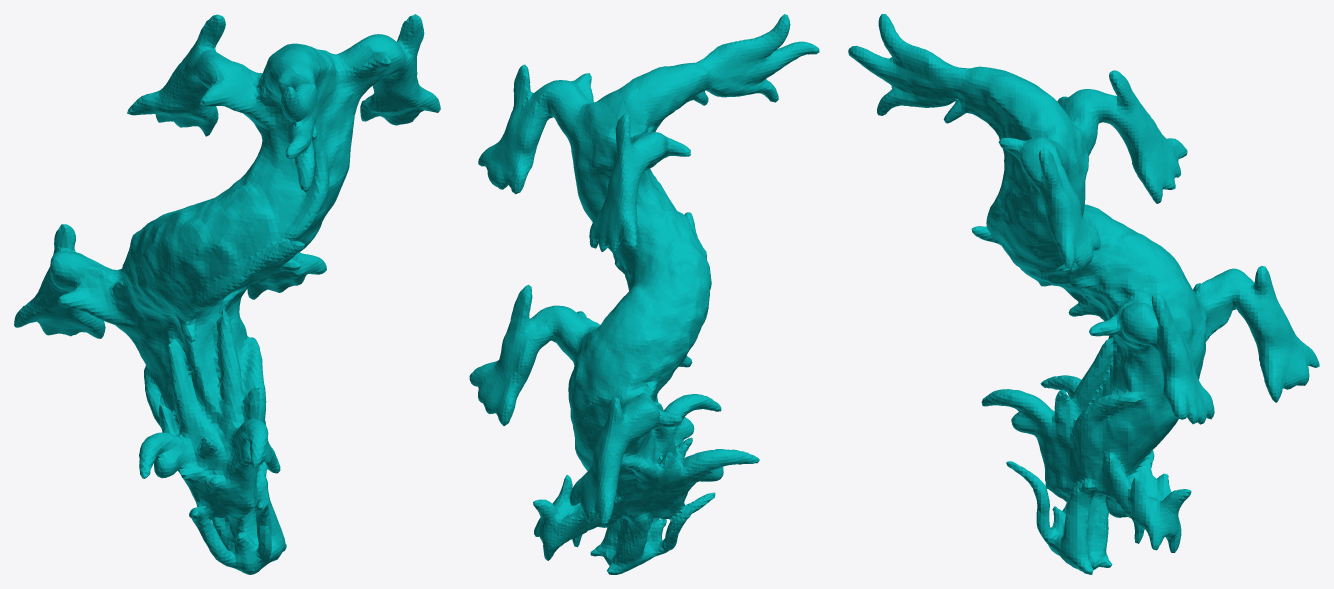
3 renders of one model, left to right at view 1: azimuth 30°, elevation 25°; view 2: azimuth 150°, elevation 25°; view 3: azimuth 270°, elevation 25°, orthographic. The views are drawn at different scales.
Size of the model in its own units: 0.527 by 0.9353 by 0.7669.
